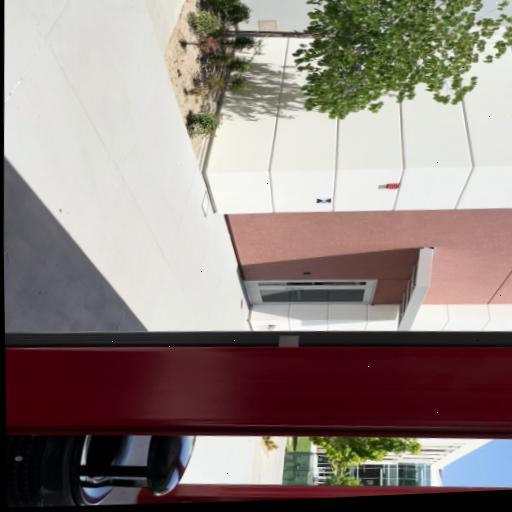target6: (317, 197, 331, 204)
